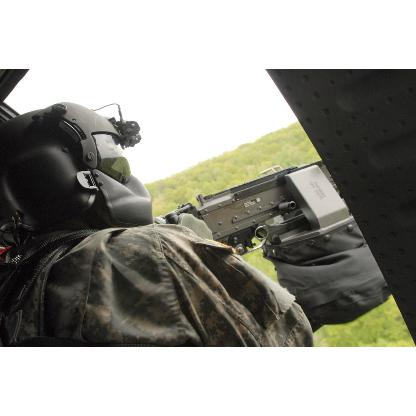gun: (153, 164, 349, 230)
